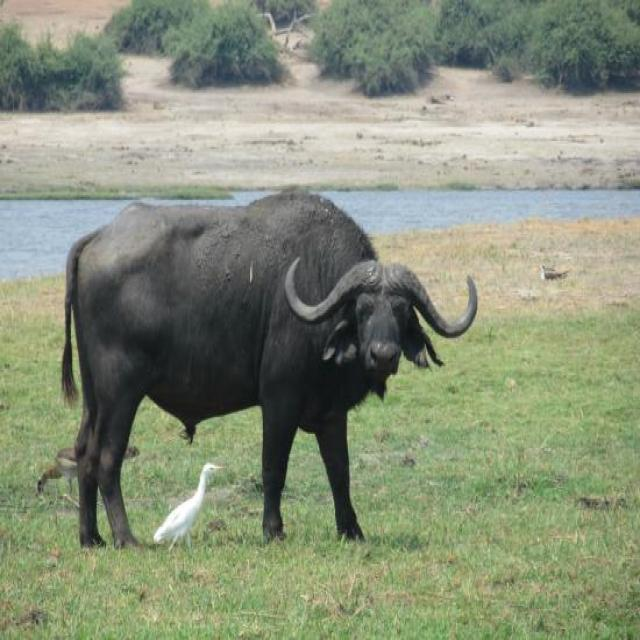buffalo: (59, 189, 480, 558)
